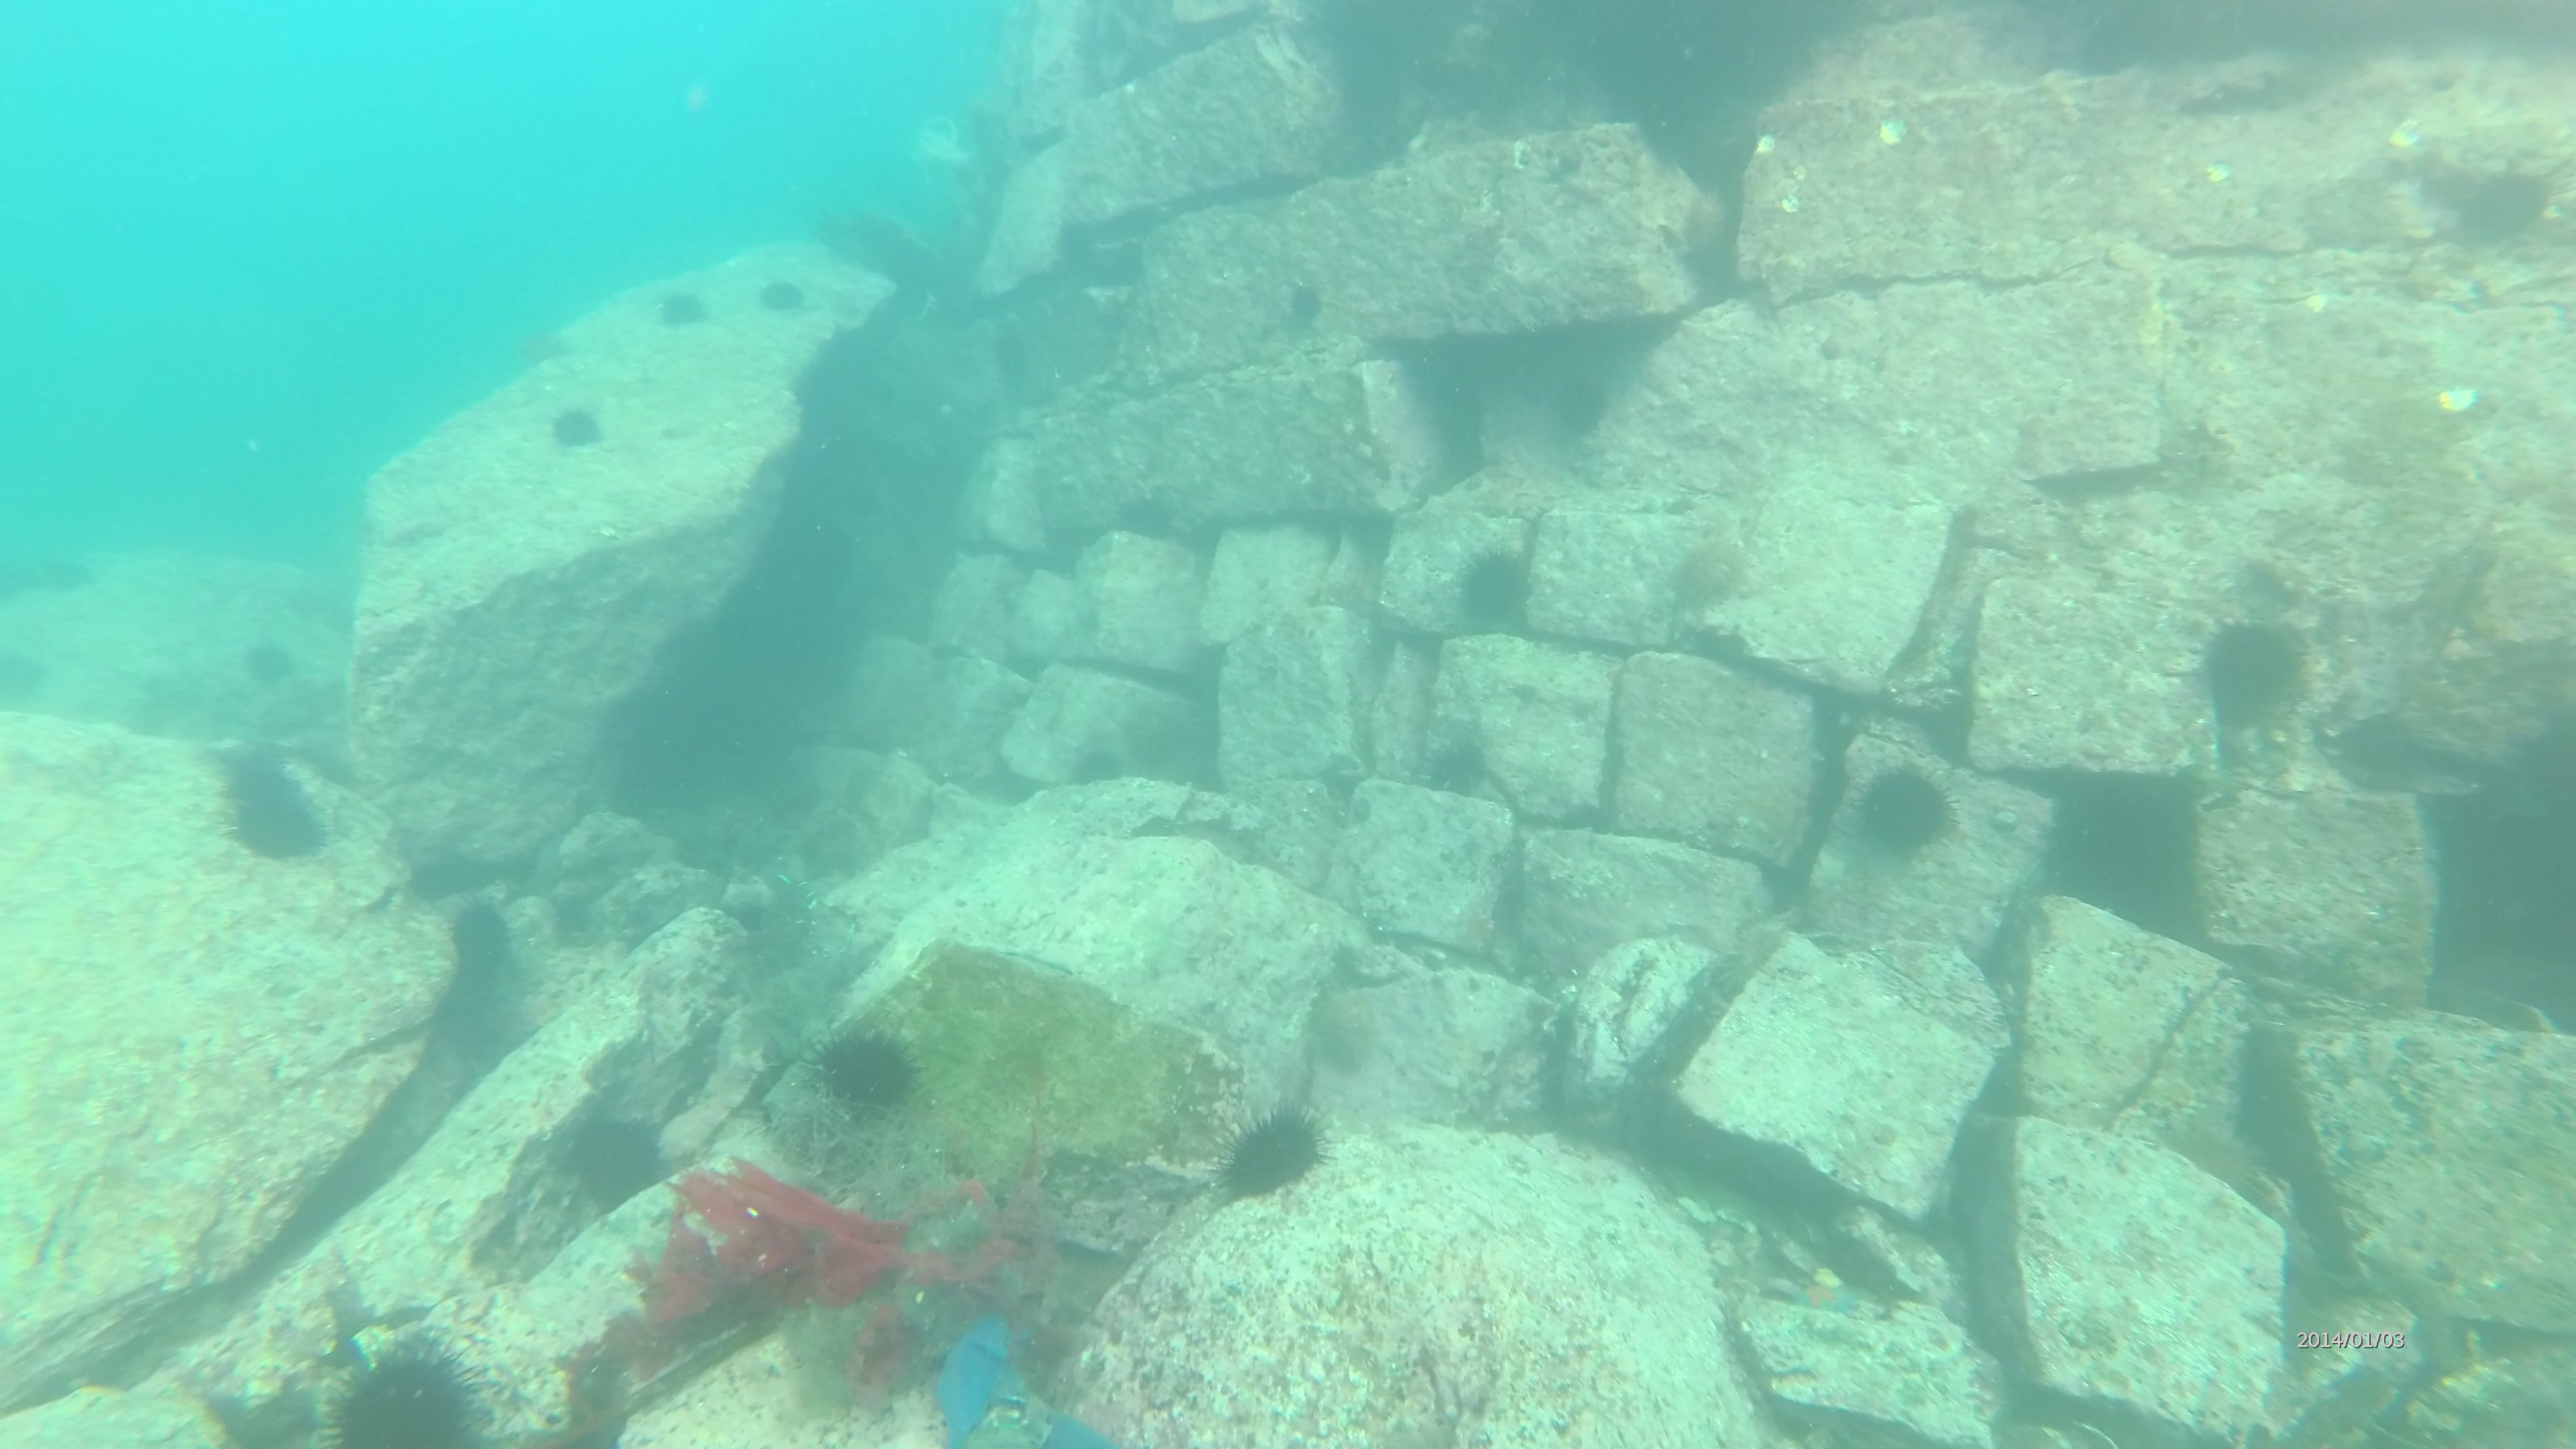echinus: (2190, 612, 2321, 738), (329, 1341, 481, 1449), (207, 752, 333, 865), (1207, 1104, 1338, 1208), (1845, 757, 1973, 862), (803, 1016, 932, 1118), (557, 1111, 667, 1207), (1449, 534, 1539, 632), (2456, 163, 2558, 246), (2174, 1116, 2265, 1200), (1304, 982, 1380, 1072), (1672, 531, 1755, 610), (444, 904, 517, 982), (1546, 372, 1619, 448), (1419, 731, 1490, 805), (548, 398, 614, 456), (232, 644, 306, 695), (991, 331, 1039, 398), (1272, 274, 1325, 334), (34, 548, 99, 596), (0, 637, 39, 717), (754, 274, 816, 322), (517, 327, 580, 370), (658, 287, 718, 329)
starfish: (1776, 1265, 1859, 1323)
